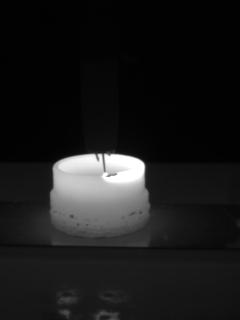tip_wire_left: (86, 149, 107, 176)
tip_wire_right: (103, 148, 117, 176)
